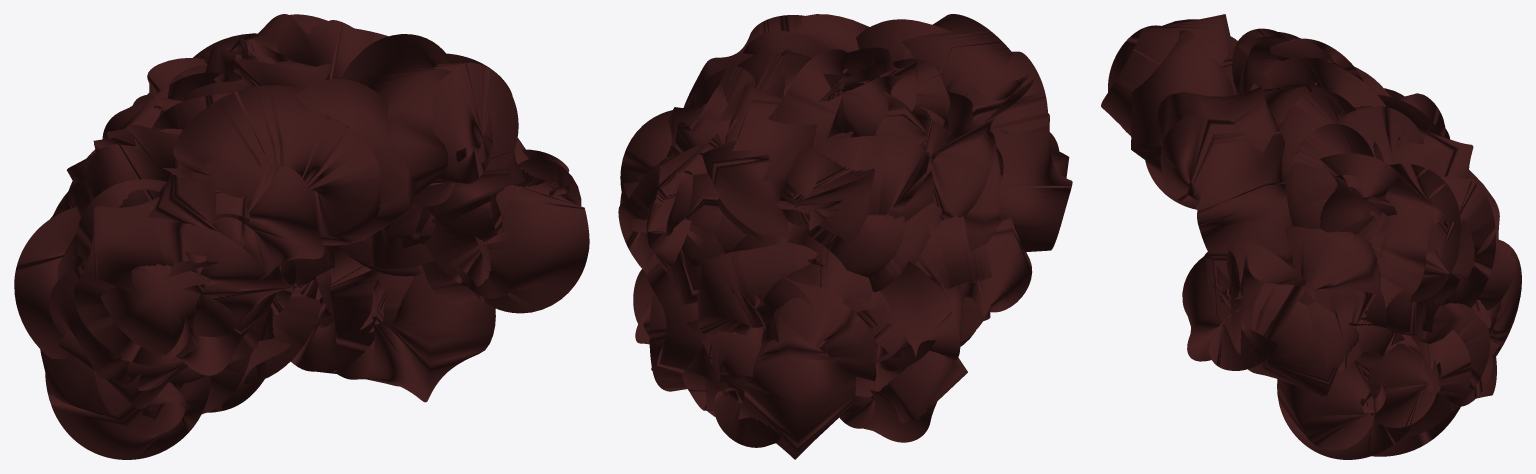
Rendered from hair for reg g1.fbx.
3 views of the same model, side by side, from view 1: azimuth 30°, elevation 25°; view 2: azimuth 150°, elevation 25°; view 3: azimuth 270°, elevation 25° (orthographic). The views are drawn at different scales.
Visible parts, largest first — view 1: g1; view 2: g1; view 3: g1.
Boxes of the visible parts, left/top/right/bottom form: g1: left=14, top=14, right=589, bottom=459; g1: left=618, top=14, right=1072, bottom=459; g1: left=1101, top=14, right=1521, bottom=459.
Bounding box in the file's own units: 148 × 121 × 128.
